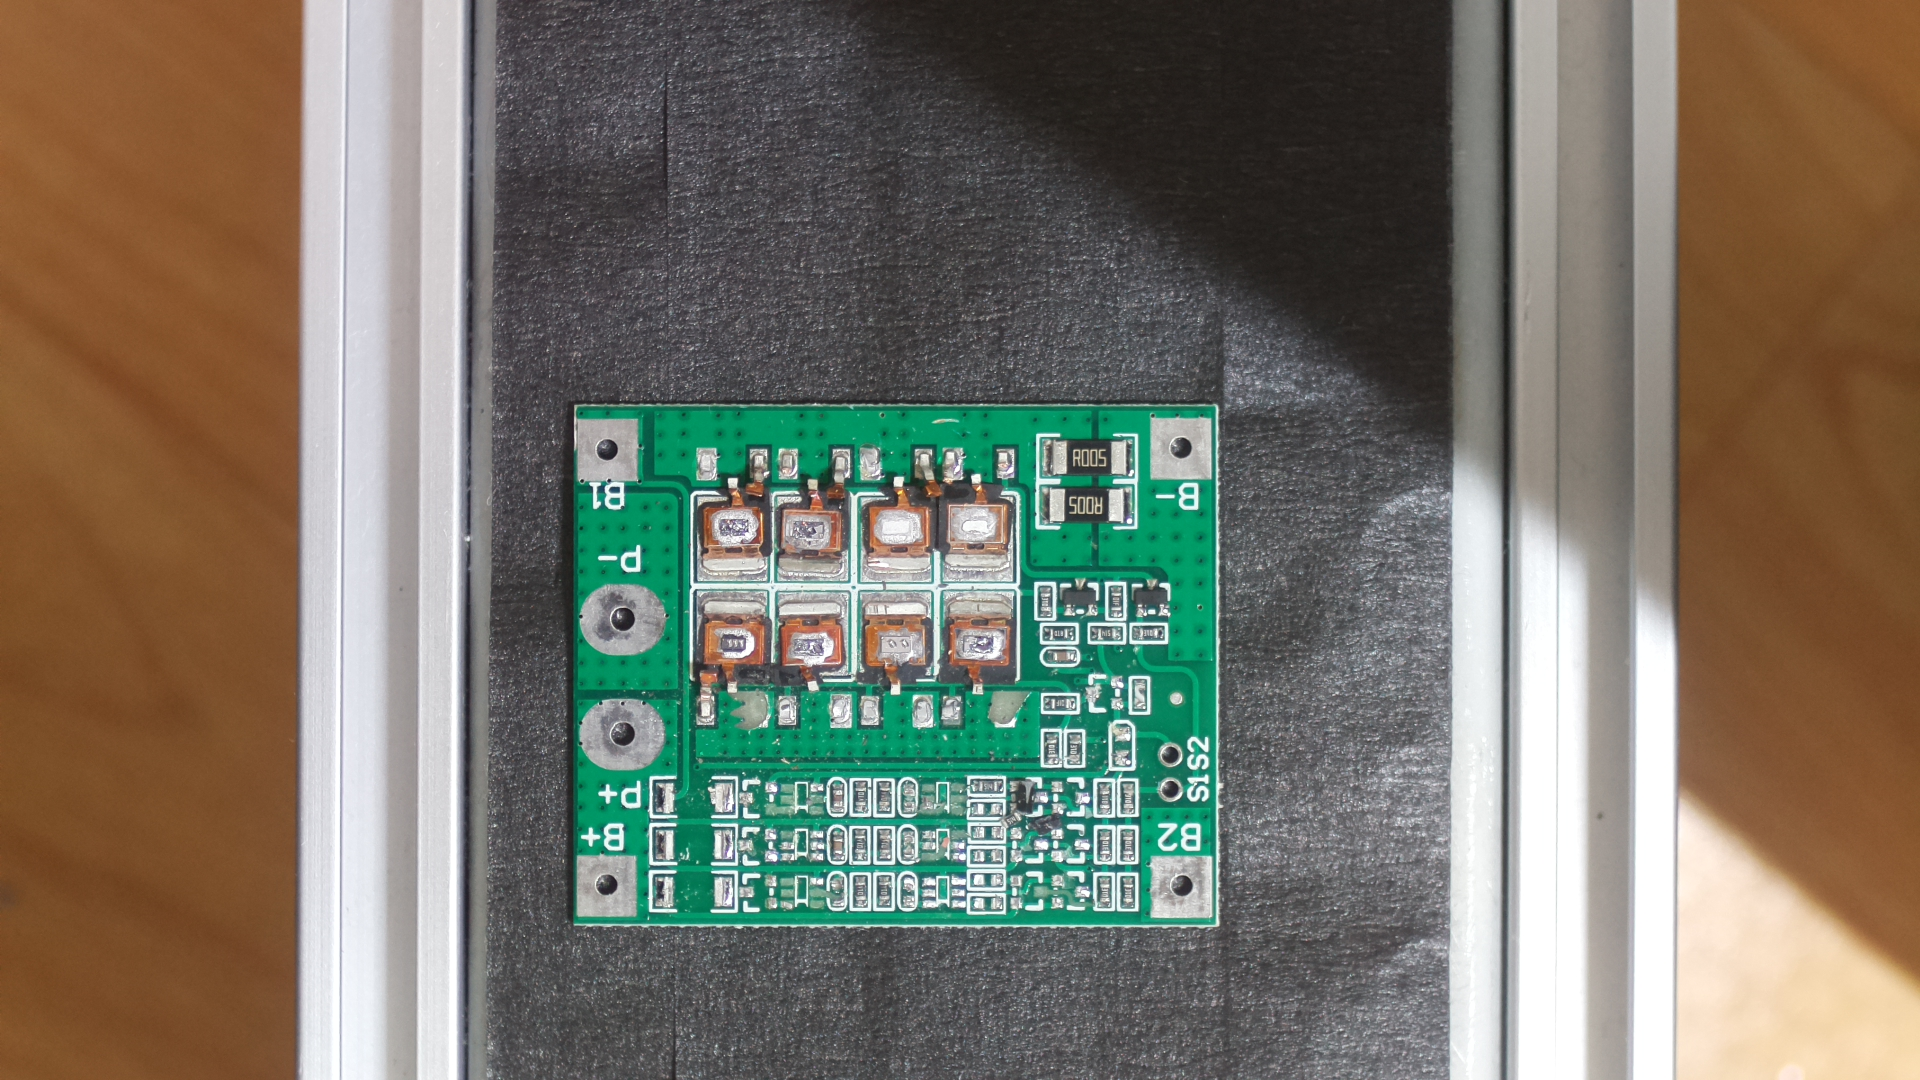C_Missing_part: (555, 381, 1234, 948)
